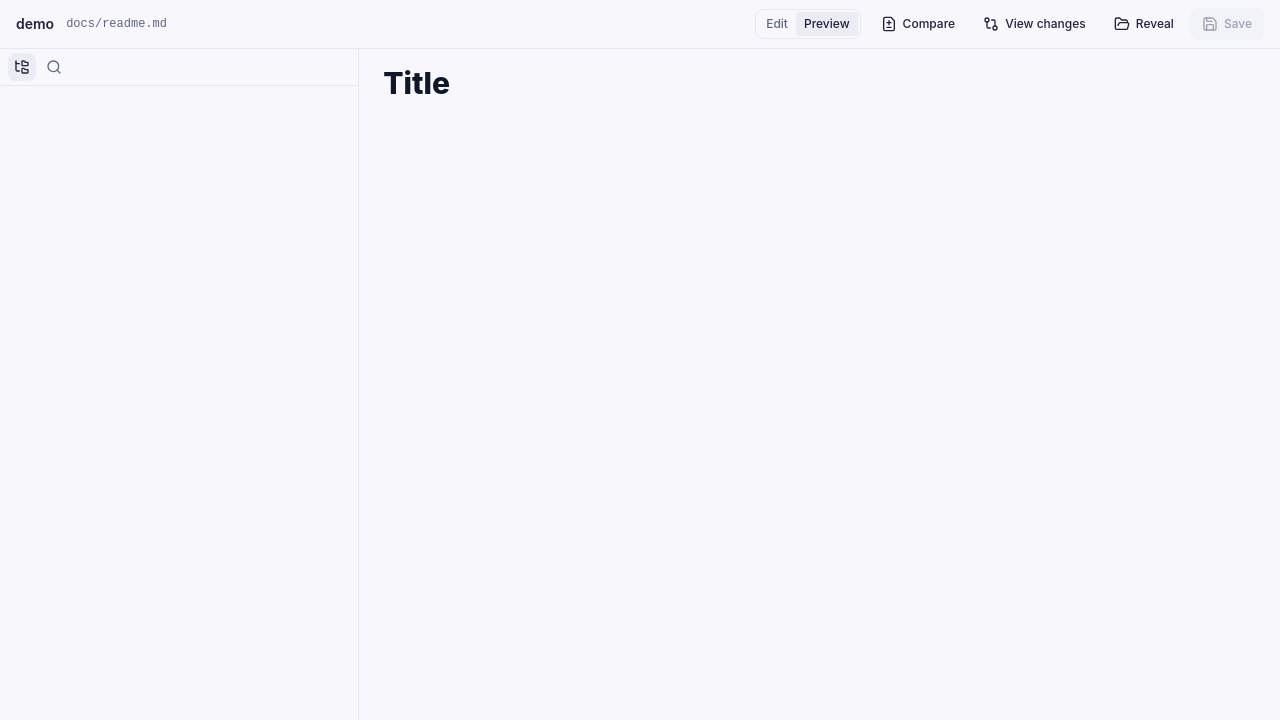
Test: FilesView word wrap toggle (#295) › md + preview-by-default on: absent on open, present after clicking Edit (A8b)
Click the button "Edit". click: (777, 24)
box: [758,12,796,36]
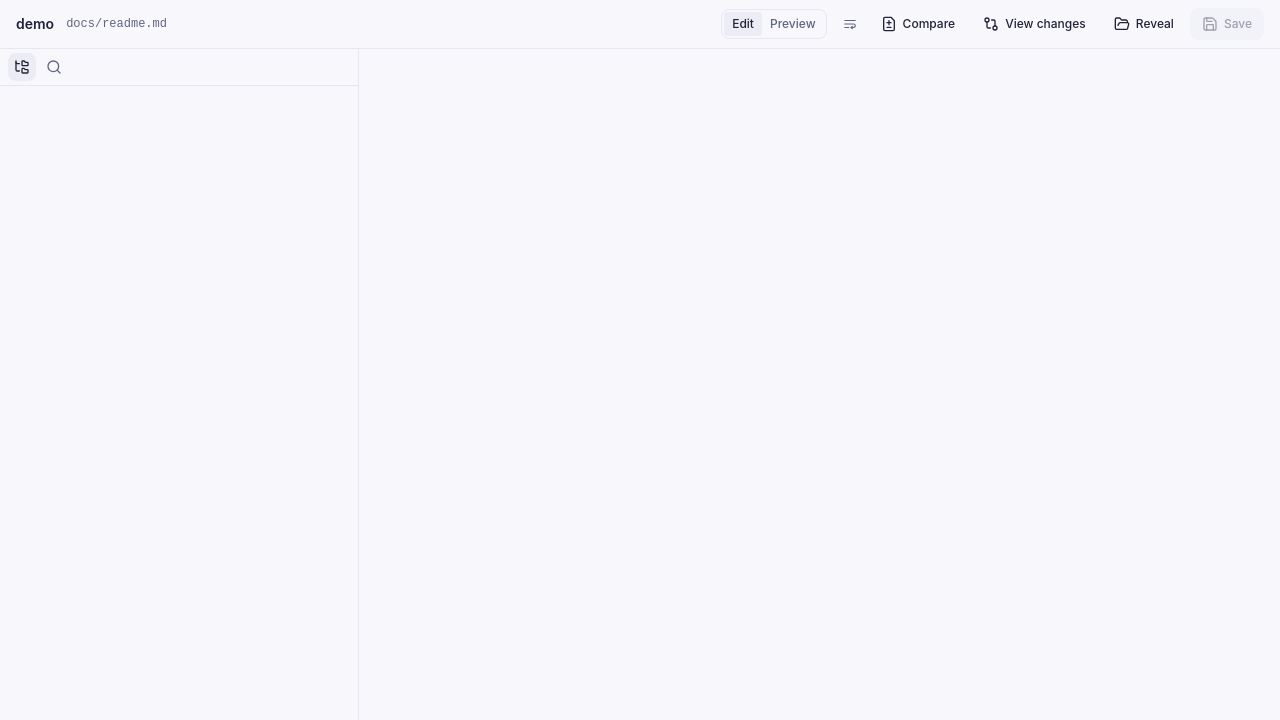
expect the button named "Word wrap" is shown: met, box [835,10,865,38]
